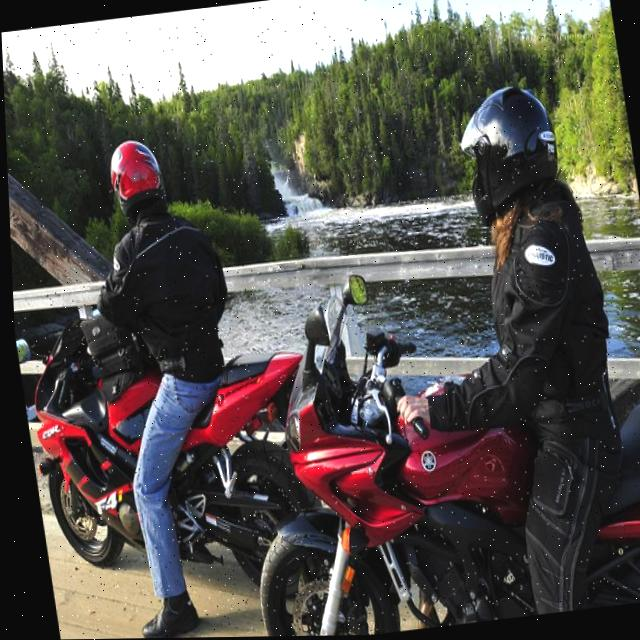motorcycle: (208, 237, 640, 637), (13, 293, 340, 578)
